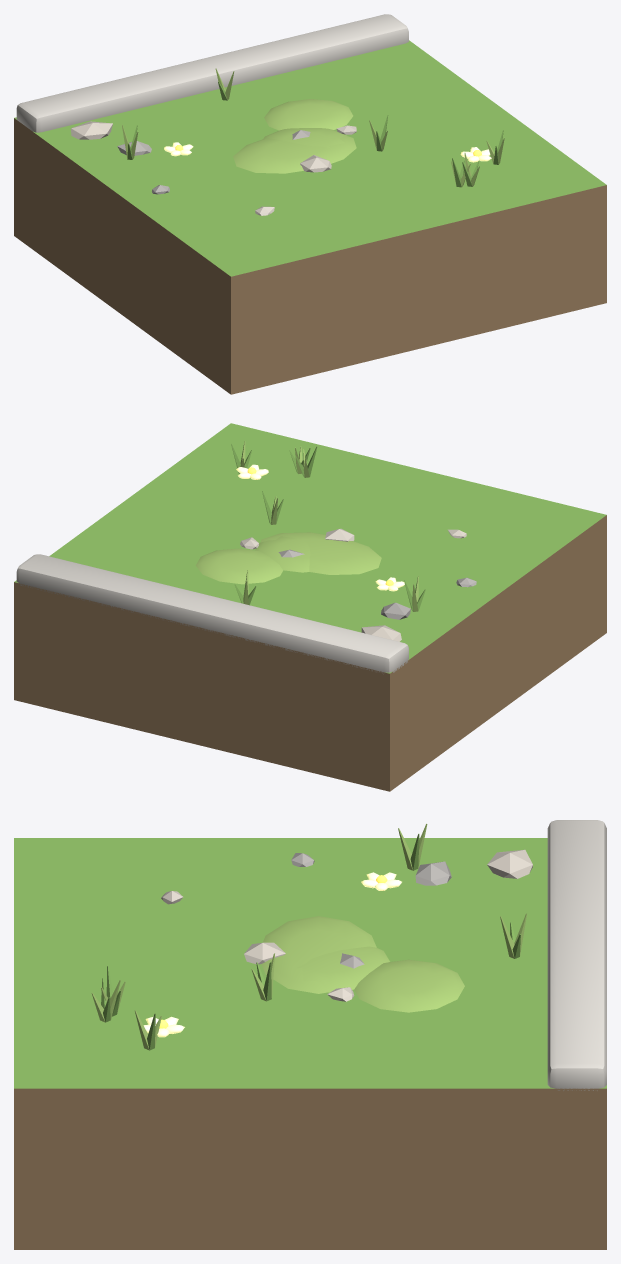
The model's file is bank_tile.glb.
3 renders of one model, top to bottom at view 1: azimuth 30°, elevation 25°; view 2: azimuth 150°, elevation 25°; view 3: azimuth 270°, elevation 25°, orthographic. The views are drawn at different scales.
Parts seen in each view (by area): view 1: bank_tile; view 2: bank_tile; view 3: bank_tile.
Boxes of the visible parts, x1,y1,x2,y2 form: bank_tile: (14,14,606,394); bank_tile: (14,423,606,791); bank_tile: (14,820,606,1249).
Bounding box in the file's own units: 1 × 0.3802 × 1.
